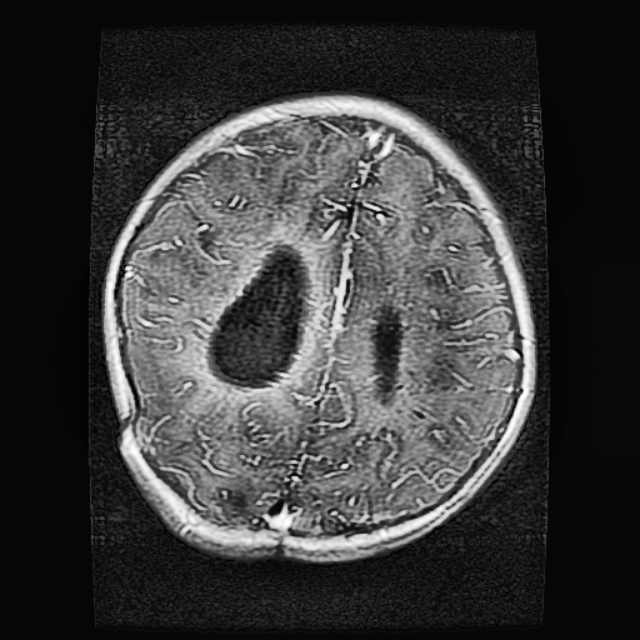Glioma: (203, 244, 308, 387)
